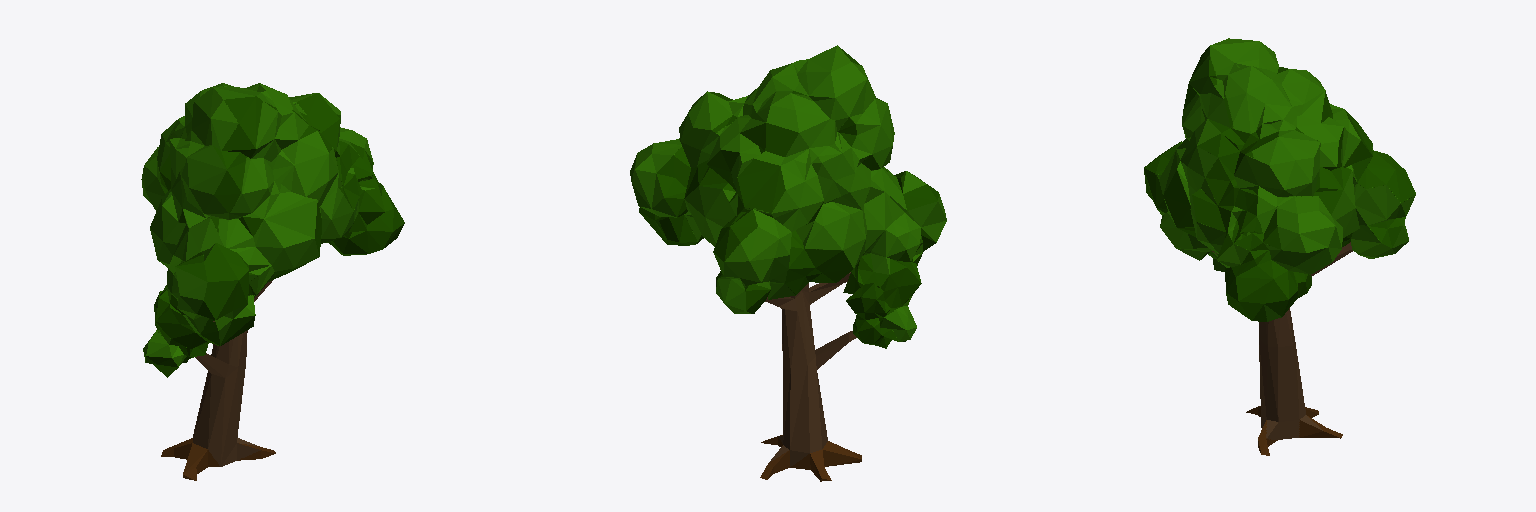
3 renders of one model, left to right at view 1: azimuth 30°, elevation 25°; view 2: azimuth 150°, elevation 25°; view 3: azimuth 270°, elevation 25°, orthographic.
Parts seen in each view (by area): view 1: _6_tree__6_tree_0__6_tree__6_tree_0.001; view 2: _6_tree__6_tree_0__6_tree__6_tree_0.001; view 3: _6_tree__6_tree_0__6_tree__6_tree_0.001.
Boxes of the visible parts, x1,y1,x2,y2 form: _6_tree__6_tree_0__6_tree__6_tree_0.001: [141, 83, 404, 480]; _6_tree__6_tree_0__6_tree__6_tree_0.001: [630, 45, 946, 481]; _6_tree__6_tree_0__6_tree__6_tree_0.001: [1144, 38, 1415, 455].
Bounding box in the file's own units: 7.29 × 10.4 × 6.64.
1 materials, 1 textured.